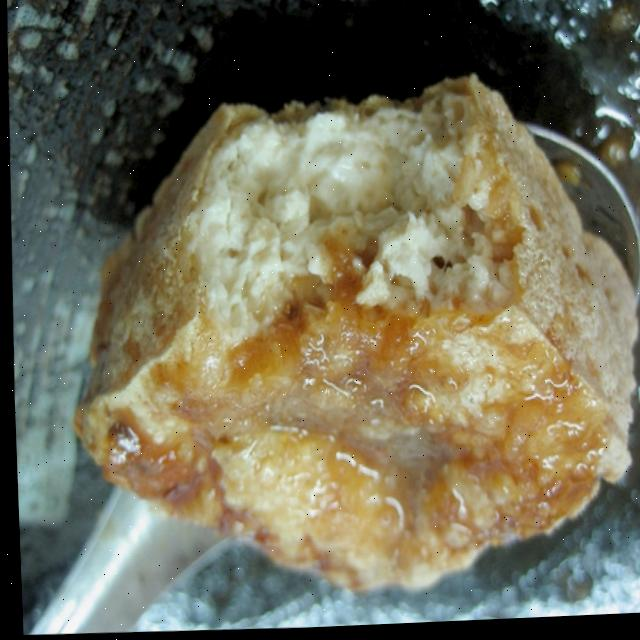豆腐料理: (27, 24, 640, 625)
